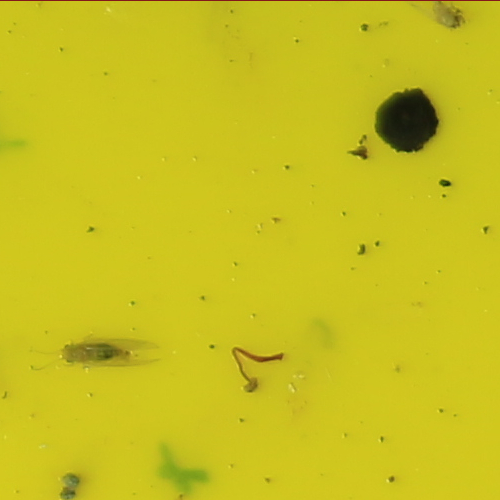Glycaspis: (55, 341, 125, 364)
